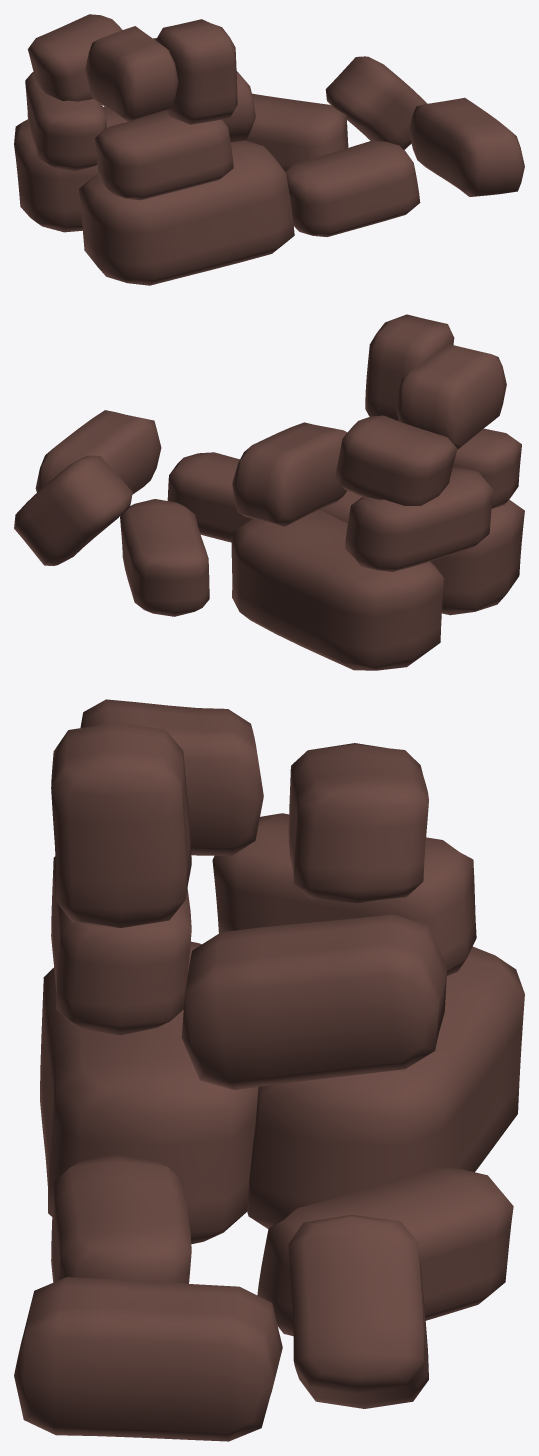
File: StoneZ1.FBX
3 views of the same model, one above another, from view 1: azimuth 30°, elevation 25°; view 2: azimuth 150°, elevation 25°; view 3: azimuth 270°, elevation 25° (orthographic). The views are drawn at different scales.
Parts seen in each view (by area): view 1: StoneZ; view 2: StoneZ; view 3: StoneZ.
Boxes of the visible parts, x1,y1,x2,y2 form: StoneZ: (14,14,524,285); StoneZ: (14,314,524,670); StoneZ: (14,699,524,1441).
Bounding box in the file's own units: 6.97 × 3.74 × 3.9.
